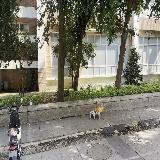fire: (95, 104, 104, 113)
